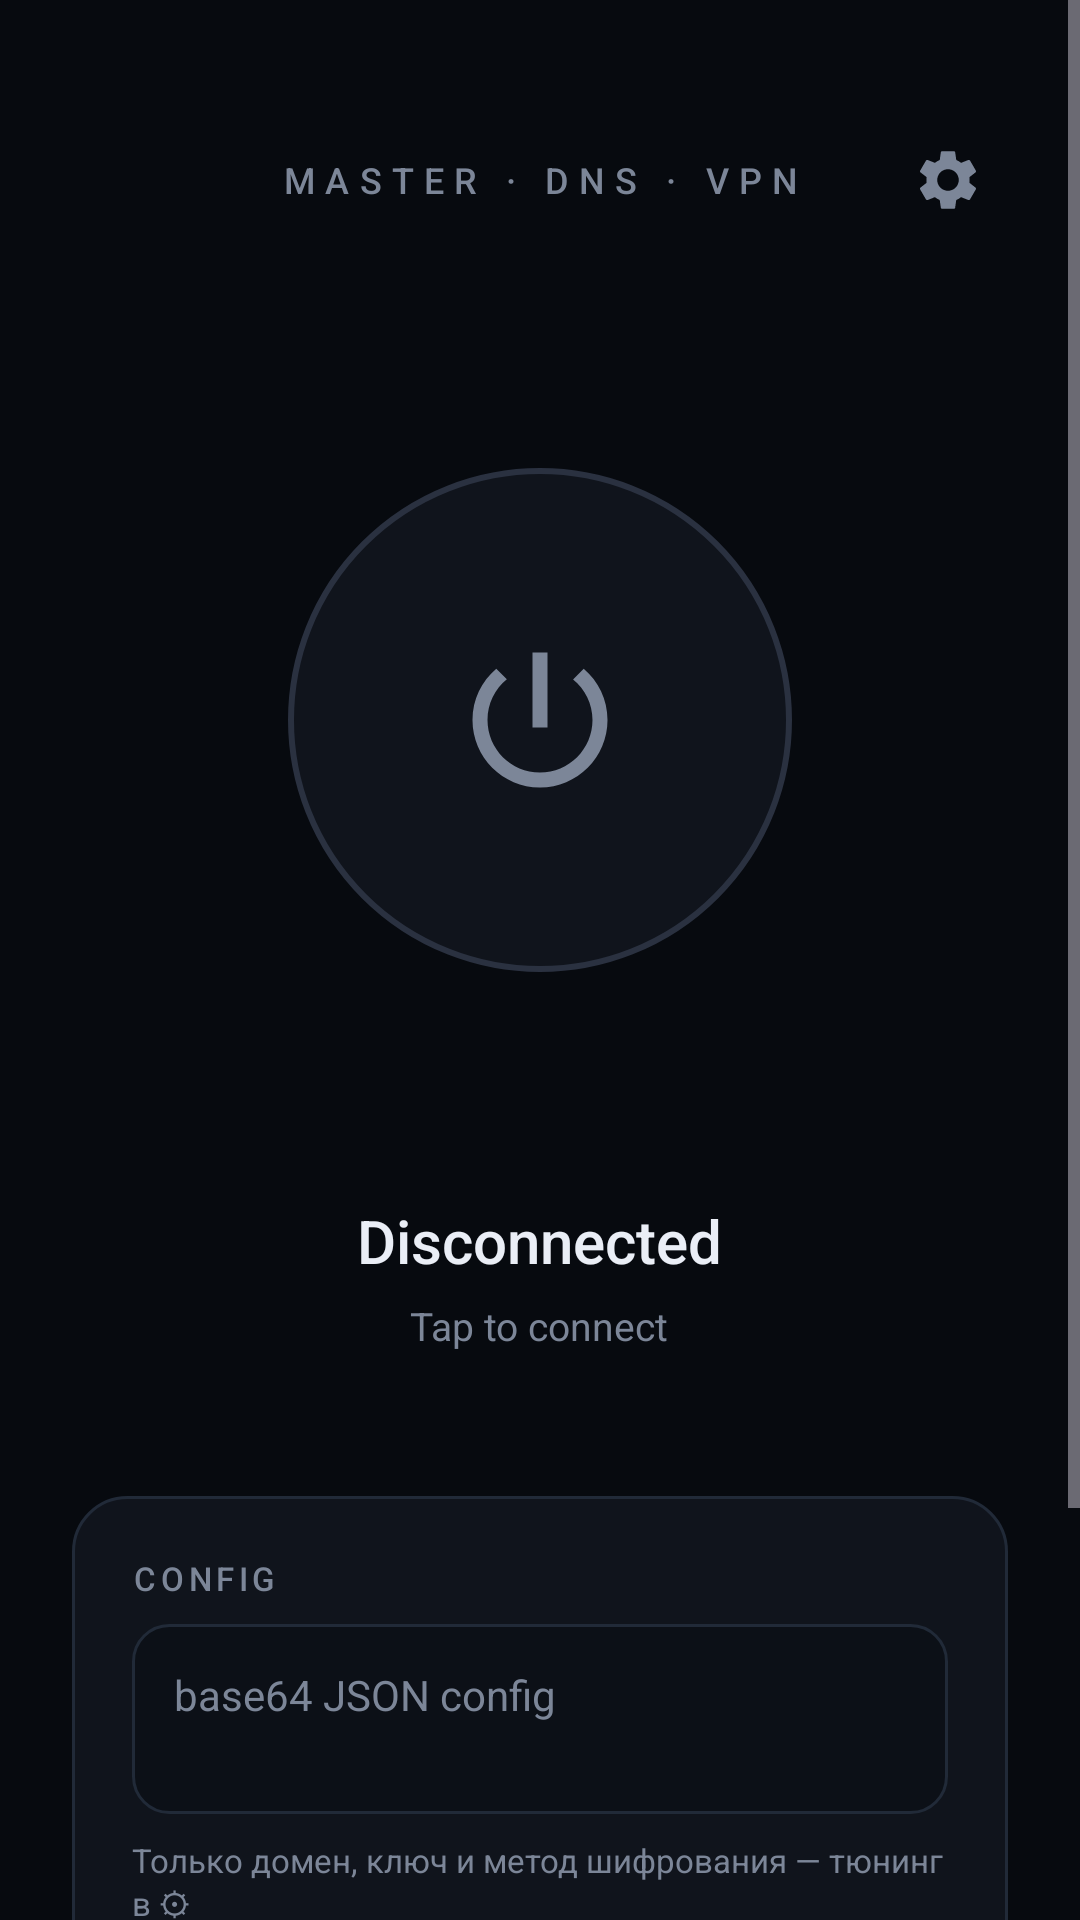

Named icons in this screenshot (1080x1920) and their bounding boxes, (x1, y1, x2, y2):
Power: (472, 652, 608, 788)
Settings: (920, 151, 976, 209)
